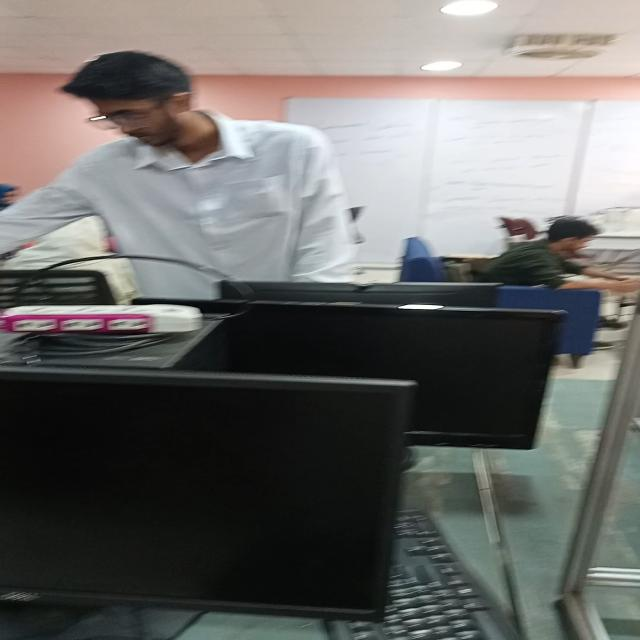dress: (3, 102, 369, 312)
glasses: (83, 108, 153, 134)
